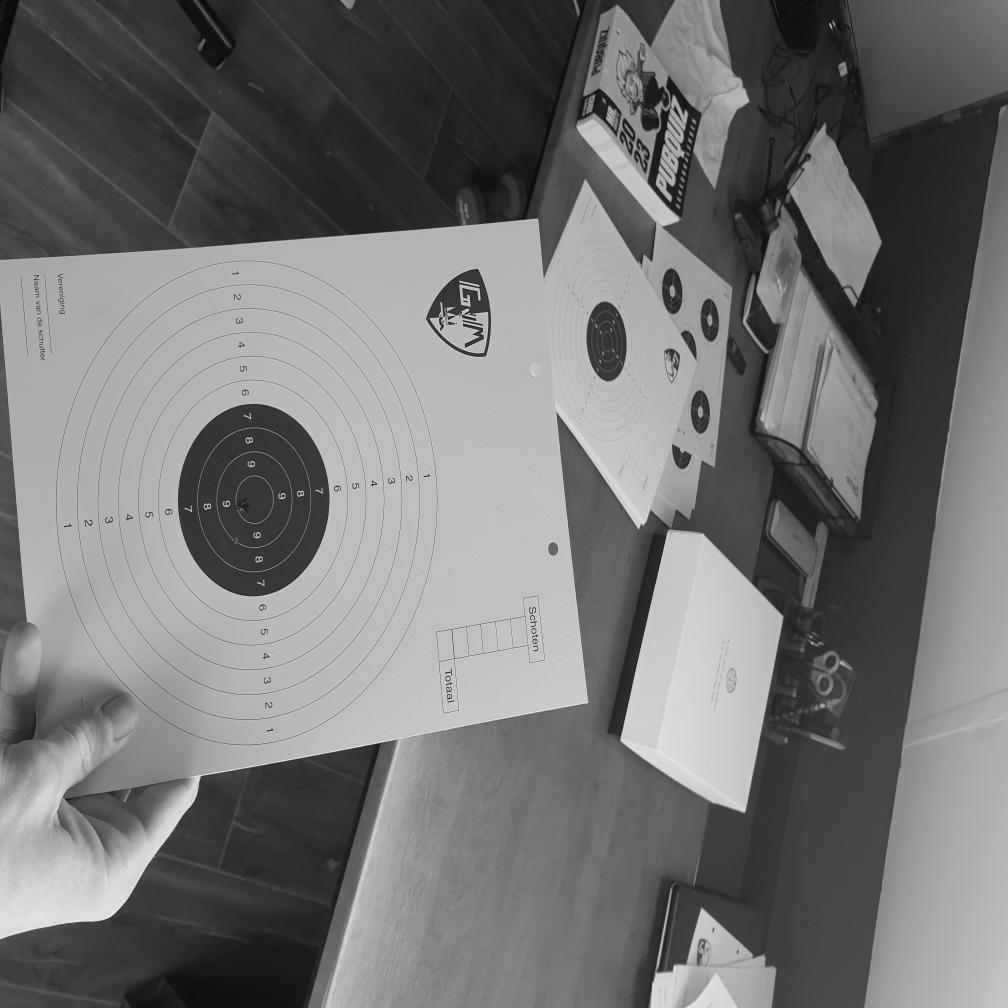10: (236, 497, 250, 516)
9: (232, 537, 240, 547)
Target: (53, 258, 438, 746)
black_contour: (177, 402, 331, 598)
